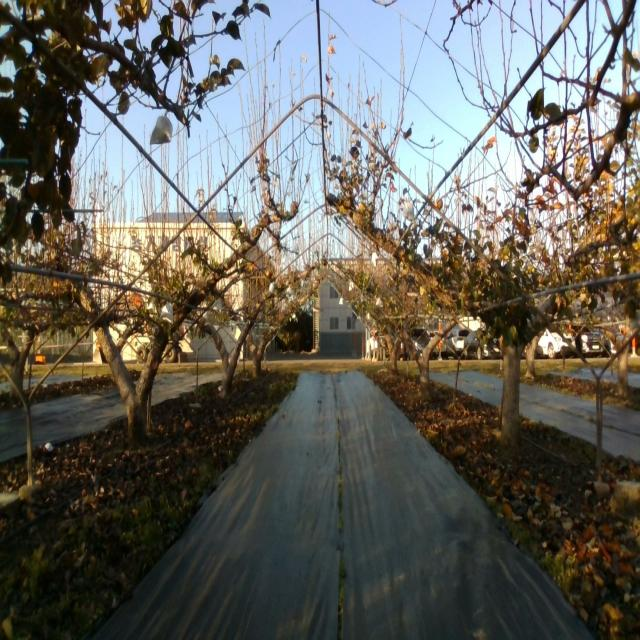pearbags: (149, 115, 173, 145), (402, 201, 415, 226), (160, 302, 174, 324)
